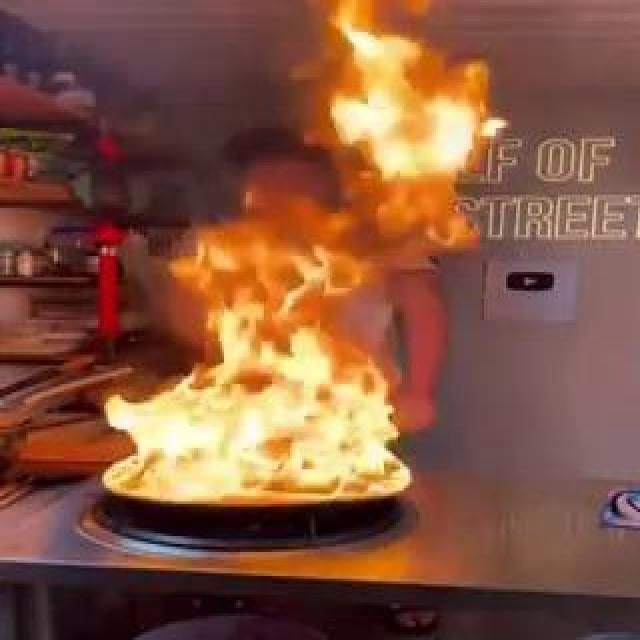Fire: (276, 324, 356, 376)
